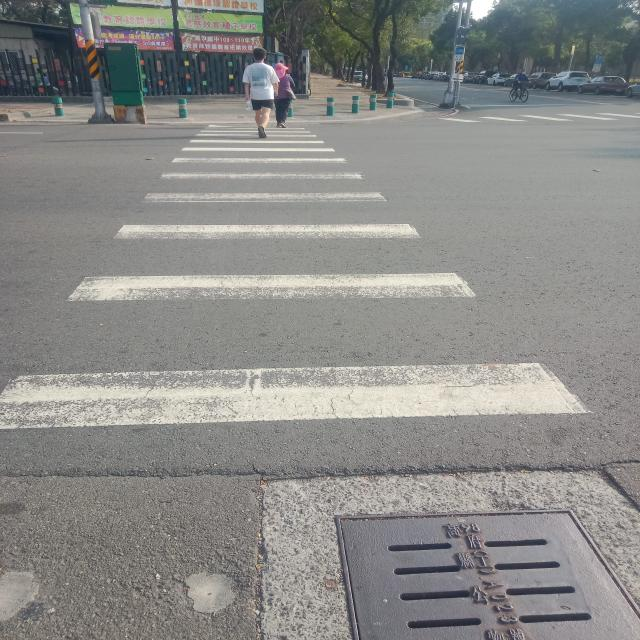zebra_crossing: (132, 65, 398, 192), (143, 63, 430, 178), (203, 62, 411, 184)
